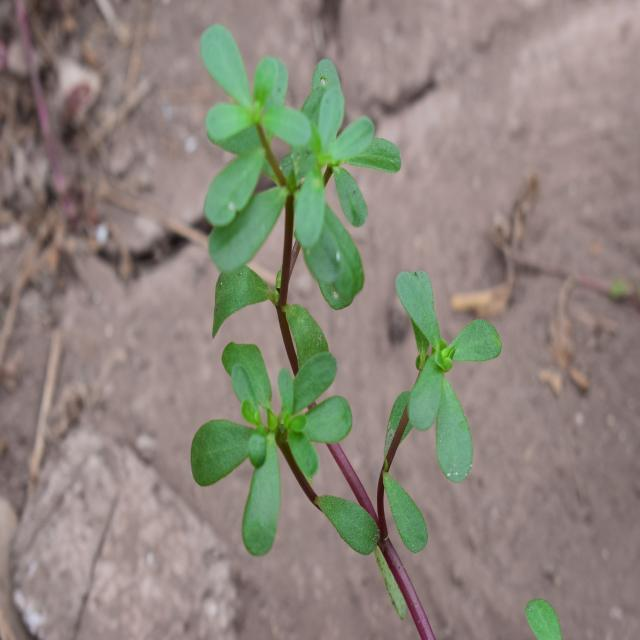purslane: (182, 22, 508, 574)
